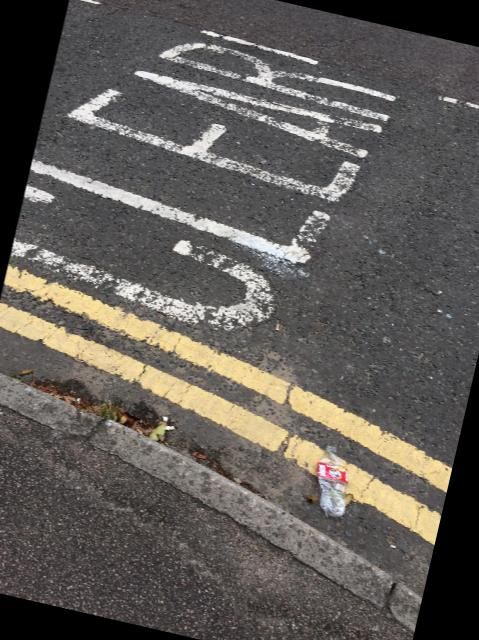plastic: (316, 444, 347, 517)
